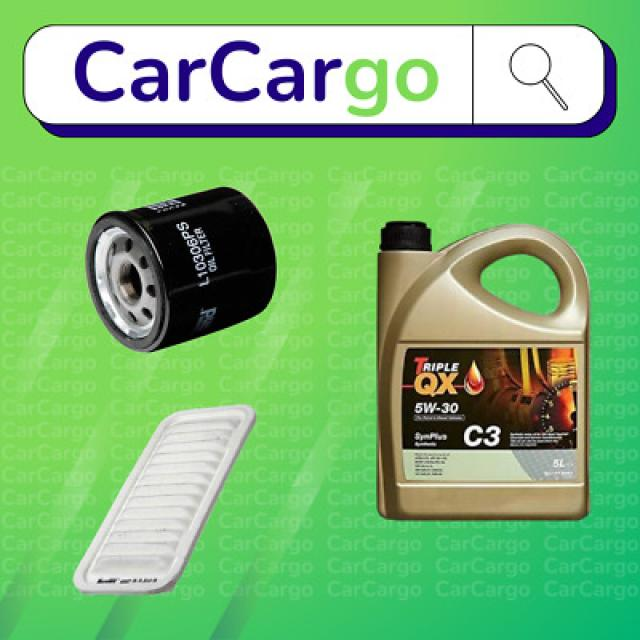air_filter: (67, 392, 272, 606)
motor_oil: (374, 213, 597, 527)
oil_filter: (84, 182, 288, 355)
